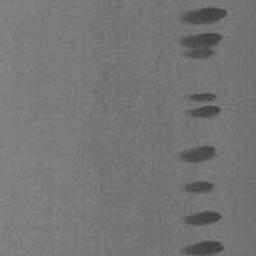Oil spot: (177, 29, 224, 61), (174, 6, 229, 27), (182, 91, 223, 119), (173, 143, 219, 165), (175, 210, 223, 227), (178, 239, 225, 256), (177, 179, 216, 193)
